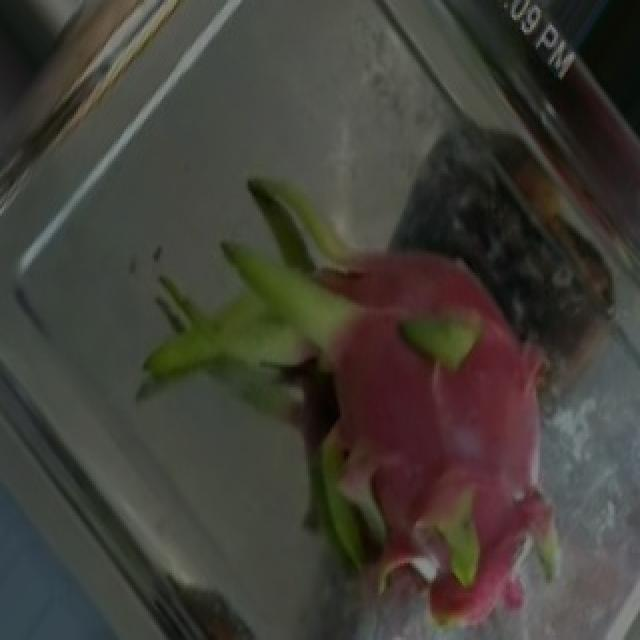fruit: (206, 206, 634, 635)
